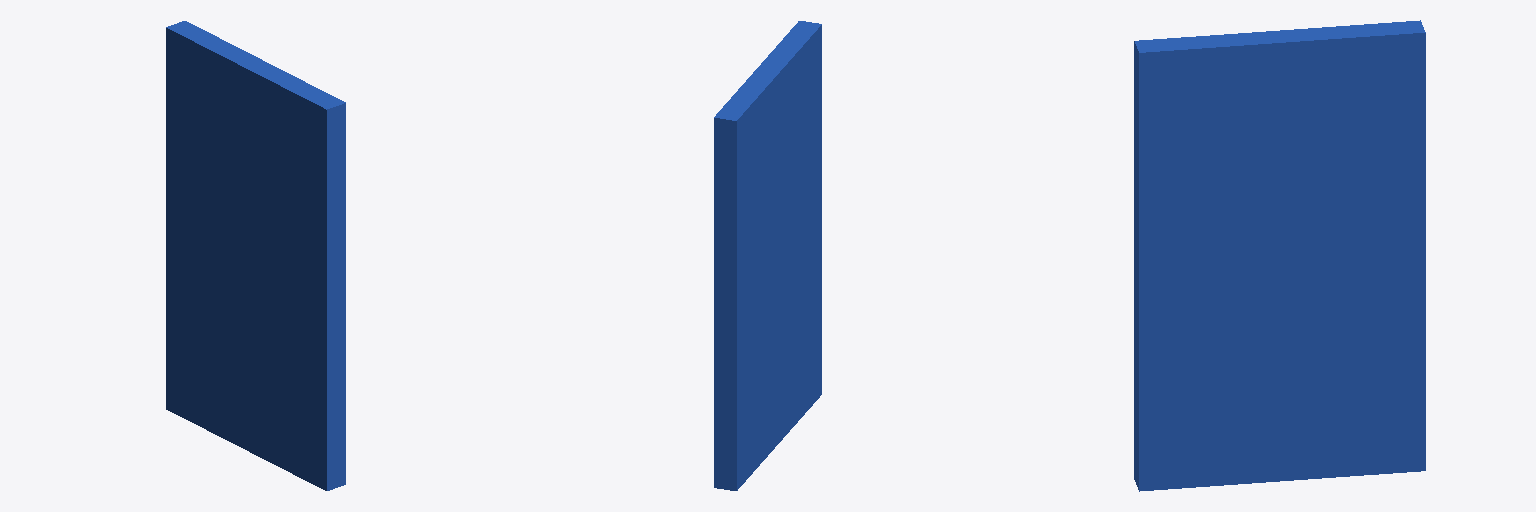
URDF robot description (Domino_16):
<robot name="Domino_16" version="1.0">
  <link name="Domino_16_link">
    <collision name="Cube.015_collision">
      <origin rpy="0.00000 0.00000 1.47573" xyz="-0.76260 0.97665 0.25000"/>
      <geometry>
        <box size="0.29754 0.10662 0.50000"/>
      </geometry>
    </collision>
    <inertial>
      <inertia ixx="0.00281" ixy="0.00012" ixz="-0.00000" iyy="0.00211" iyz="0.00000" izz="0.00076"/>
      <origin rpy="0.00000 0.00000 0.00000" xyz="-0.76260 0.97665 0.25000"/>
      <mass value="0.10000"/>
    </inertial>
    <visual name="Cube.015">
      <material name="turnarrow"/>
      <origin rpy="0.00000 0.00000 1.47573" xyz="-0.76260 0.97665 0.25000"/>
      <geometry>
        <mesh filename="../meshes/obj/Cube.012.obj" scale="0.96309 0.86937 1.13774"/>
      </geometry>
    </visual>
  </link>
  <material name="turnarrow">
    <color rgba="0.23137 0.44706 0.80000 1.00000"/>
  </material>
</robot>

--- What the picture shows (computed from the rendered views, not written in the file) ---
Views: 3 orthographic renders of the robot side by side, from view 1: azimuth 30°, elevation 25°; view 2: azimuth 150°, elevation 25°; view 3: azimuth 270°, elevation 25°.
Robot: Domino_16 — 1 links, 0 joints (none); root link Domino_16_link; default pose: every joint at zero.
Visible links, largest first — view 1: Domino_16_link; view 2: Domino_16_link; view 3: Domino_16_link.
Link boxes in pixels (x1,y1,x2,y2): Domino_16_link: [166, 21, 345, 490]; Domino_16_link: [714, 21, 821, 490]; Domino_16_link: [1134, 20, 1425, 491].
Size in the robot's own frame: 0.0794 by 0.3008 by 0.5 metres.
1 mesh visuals loaded from 1 distinct referenced files (1 OBJ).